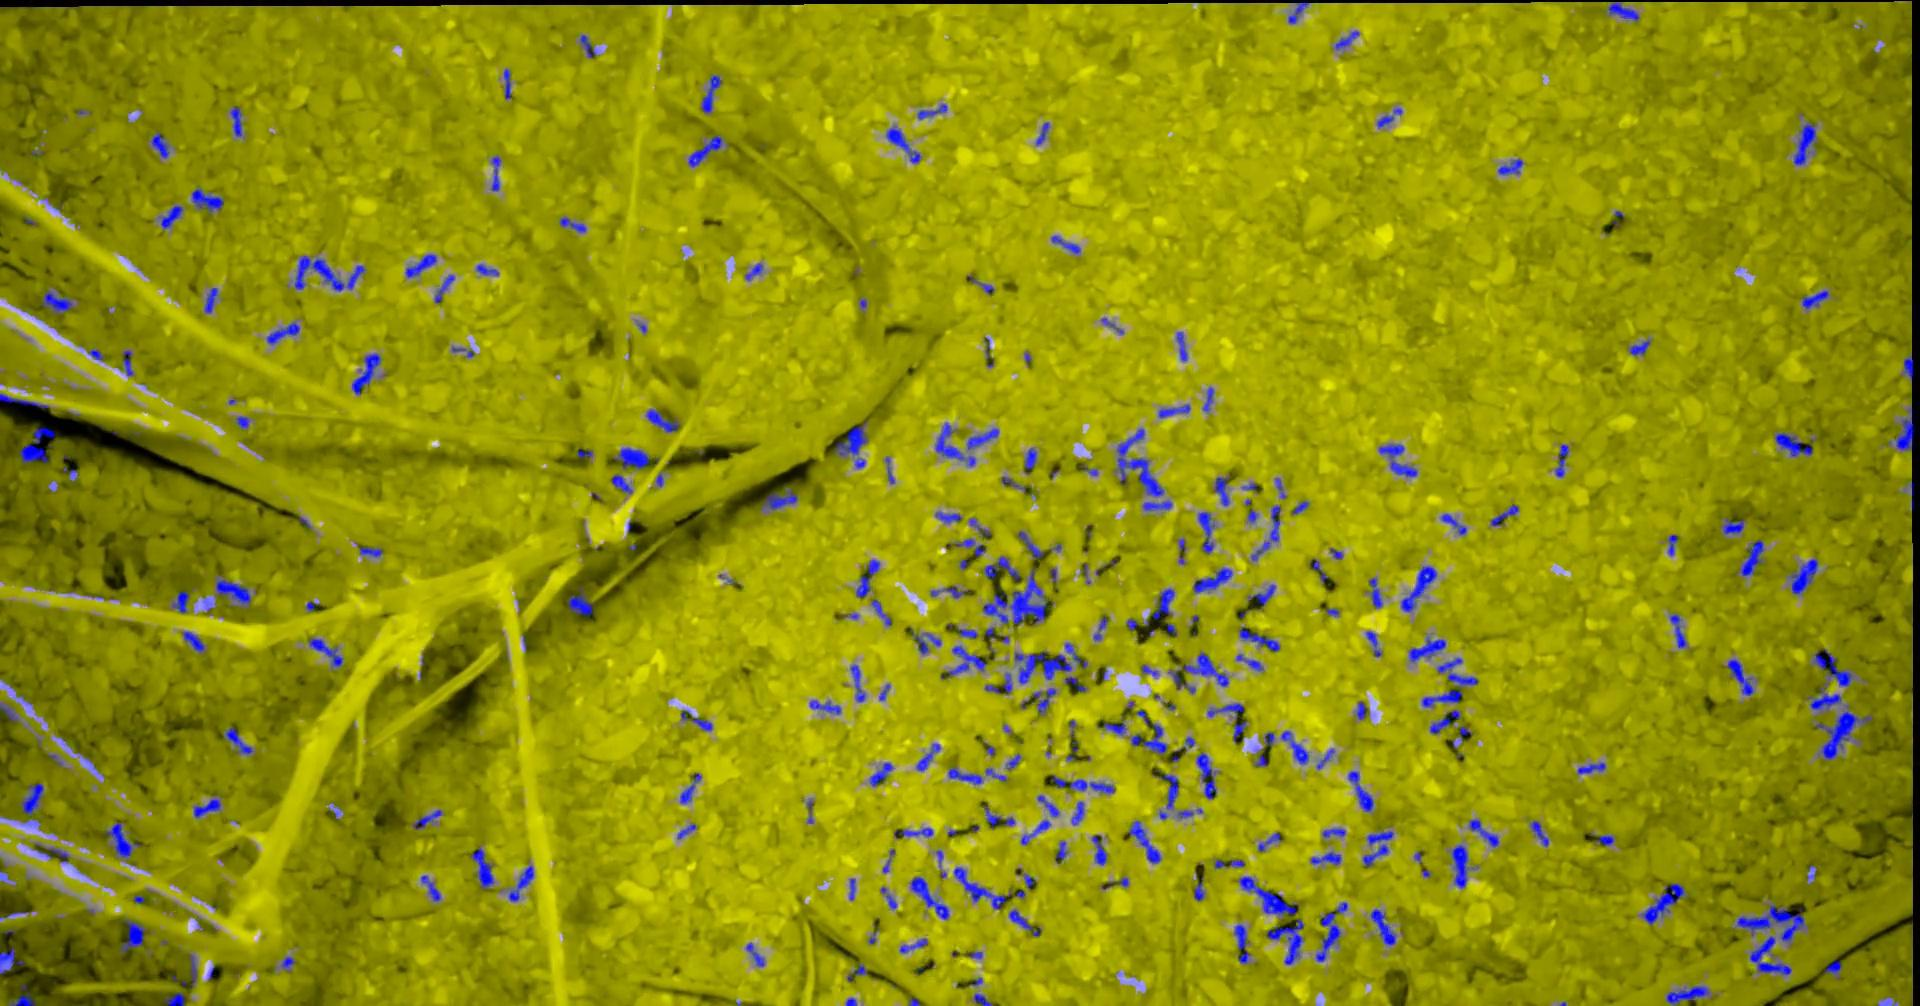ant: (1117, 428, 1164, 495), (955, 866, 1026, 909), (1817, 706, 1874, 760), (1423, 657, 1479, 706), (1738, 904, 1806, 942), (1241, 876, 1299, 920), (296, 255, 366, 291), (1317, 901, 1349, 962), (1016, 652, 1073, 683), (1643, 883, 1685, 925), (937, 422, 977, 466), (1267, 918, 1305, 964), (1181, 652, 1230, 686), (1751, 935, 1793, 974), (912, 876, 950, 920), (1133, 709, 1170, 753), (1253, 506, 1283, 560), (1402, 567, 1437, 611), (836, 420, 869, 467), (1815, 648, 1854, 686), (22, 426, 57, 464), (1130, 821, 1162, 862), (105, 822, 142, 857), (888, 126, 922, 163), (1051, 774, 1116, 793), (1380, 445, 1418, 476), (353, 353, 382, 394), (949, 645, 988, 674), (690, 133, 724, 166), (1153, 768, 1180, 809), (1349, 771, 1375, 810), (1241, 626, 1281, 652), (1790, 558, 1818, 594), (217, 575, 251, 605), (310, 636, 344, 666), (1195, 567, 1233, 592), (1410, 636, 1448, 662), (1453, 843, 1474, 888), (472, 847, 495, 889), (1796, 122, 1817, 165), (1197, 752, 1218, 798), (1283, 730, 1310, 763), (1777, 432, 1815, 456), (857, 559, 881, 597), (1730, 659, 1755, 695), (1371, 909, 1397, 945), (1010, 909, 1043, 936), (985, 556, 1021, 580), (510, 865, 535, 901), (225, 727, 255, 754), (1669, 984, 1710, 1005), (121, 920, 147, 951), (1742, 539, 1765, 575), (1810, 683, 1843, 709), (1023, 687, 1057, 713), (1896, 408, 1916, 448), (23, 782, 44, 821), (568, 587, 596, 616), (763, 486, 799, 509), (1470, 819, 1500, 846), (193, 188, 225, 212), (648, 408, 681, 431), (615, 447, 651, 467), (1199, 511, 1217, 553), (1, 392, 50, 408), (1431, 709, 1462, 733), (703, 74, 723, 112), (268, 323, 301, 344), (1018, 531, 1045, 558), (913, 629, 942, 653), (1022, 819, 1051, 843), (408, 254, 438, 277), (985, 805, 1016, 828), (1609, 0, 1641, 22), (1154, 588, 1176, 620), (36, 843, 70, 862), (968, 428, 999, 448), (949, 766, 984, 784), (43, 291, 72, 312), (682, 710, 712, 730), (682, 772, 702, 803), (1065, 641, 1090, 667), (1, 948, 25, 973), (918, 743, 941, 770), (1364, 843, 1390, 866), (851, 664, 867, 701), (1170, 671, 1197, 692), (1236, 923, 1251, 963), (436, 274, 456, 304), (1173, 735, 1196, 761), (1492, 504, 1520, 525), (1250, 584, 1277, 605), (415, 809, 443, 829), (1671, 614, 1688, 647), (1051, 235, 1082, 253), (872, 598, 893, 625), (1209, 702, 1244, 718), (871, 762, 894, 785), (957, 539, 987, 556), (1378, 107, 1403, 127), (1443, 513, 1468, 533), (422, 875, 442, 901), (196, 798, 222, 817), (183, 954, 198, 987), (163, 205, 184, 227), (152, 132, 171, 158), (1310, 558, 1330, 583), (1531, 821, 1550, 846), (919, 103, 949, 119), (969, 276, 996, 293), (1803, 290, 1830, 307), (1290, 0, 1310, 23), (949, 622, 979, 638), (1068, 719, 1079, 760), (1217, 473, 1230, 506), (1237, 653, 1265, 669), (1258, 832, 1283, 851), (895, 827, 935, 838), (1093, 835, 1109, 864), (184, 631, 206, 652), (1039, 795, 1060, 815), (1337, 30, 1360, 50), (748, 942, 766, 967), (1370, 577, 1384, 607), (811, 700, 842, 714), (1498, 158, 1524, 174), (561, 216, 587, 232), (612, 474, 634, 493), (1161, 404, 1192, 417), (1557, 445, 1570, 476), (1312, 851, 1343, 864), (902, 937, 930, 951), (970, 518, 990, 537), (1003, 476, 1027, 492), (1368, 631, 1383, 655), (174, 591, 190, 612), (204, 287, 218, 312), (1368, 831, 1396, 843), (582, 34, 597, 57), (1723, 518, 1746, 533), (1318, 749, 1336, 768), (1103, 876, 1130, 889), (1825, 959, 1843, 978), (850, 963, 869, 981), (1095, 616, 1109, 640), (1578, 762, 1608, 774), (1065, 676, 1087, 691), (883, 887, 898, 908), (1, 704, 19, 721), (745, 263, 764, 279), (232, 105, 243, 136), (1630, 339, 1651, 354), (493, 156, 502, 191), (10, 993, 37, 1005), (1144, 500, 1173, 511), (477, 263, 500, 276), (937, 511, 963, 522), (1105, 721, 1128, 734), (1178, 332, 1189, 359), (165, 991, 185, 1005), (1204, 387, 1215, 412), (1026, 448, 1037, 473), (945, 586, 969, 597), (1195, 876, 1206, 901), (1037, 122, 1050, 144), (987, 768, 1008, 781), (1057, 841, 1069, 862), (679, 823, 697, 838), (1073, 801, 1084, 824), (1905, 354, 1915, 380), (1236, 720, 1248, 741), (1293, 500, 1310, 514), (124, 351, 135, 375), (361, 546, 383, 556), (505, 69, 513, 98), (1669, 533, 1679, 555), (975, 993, 994, 1005), (1008, 753, 1022, 768), (1257, 748, 1269, 766), (1324, 828, 1347, 837), (1180, 539, 1187, 563), (1004, 673, 1013, 694), (1357, 701, 1368, 719), (1597, 835, 1615, 845), (237, 415, 250, 429), (90, 349, 105, 359), (578, 448, 593, 459), (1266, 730, 1276, 746), (282, 956, 297, 967)
